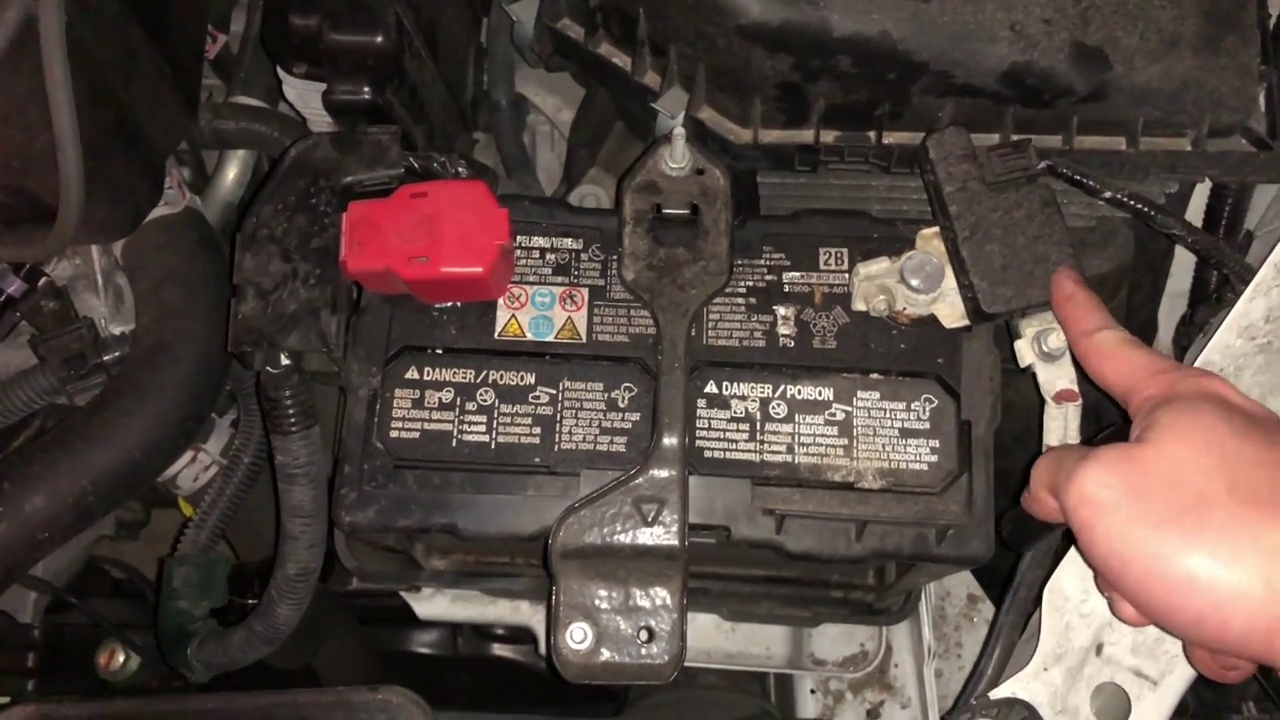battery: (343, 173, 993, 547)
neg_connected: (837, 189, 999, 357)
pos_connected: (291, 173, 551, 318)
